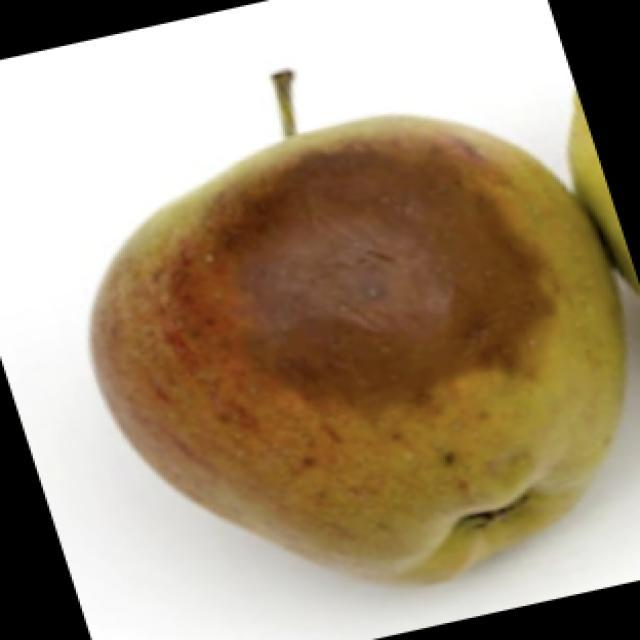Rotten: (81, 105, 640, 610)
